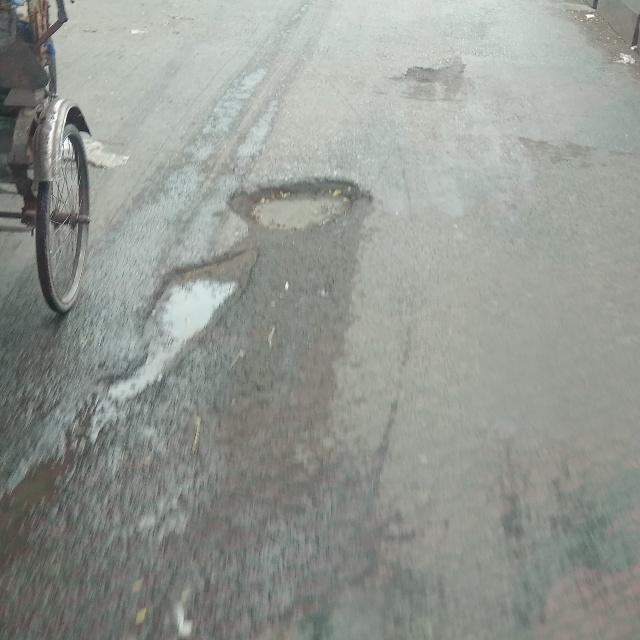Pothole: (133, 259, 235, 349), (245, 186, 346, 242)
